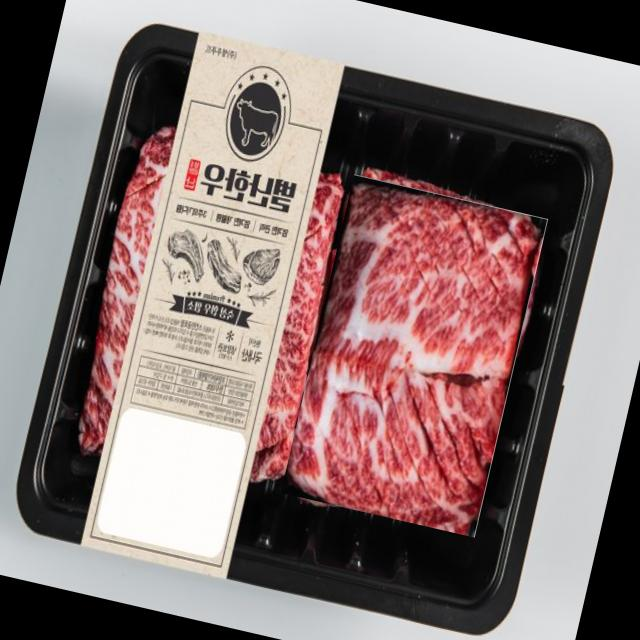beef: (280, 174, 548, 537)
